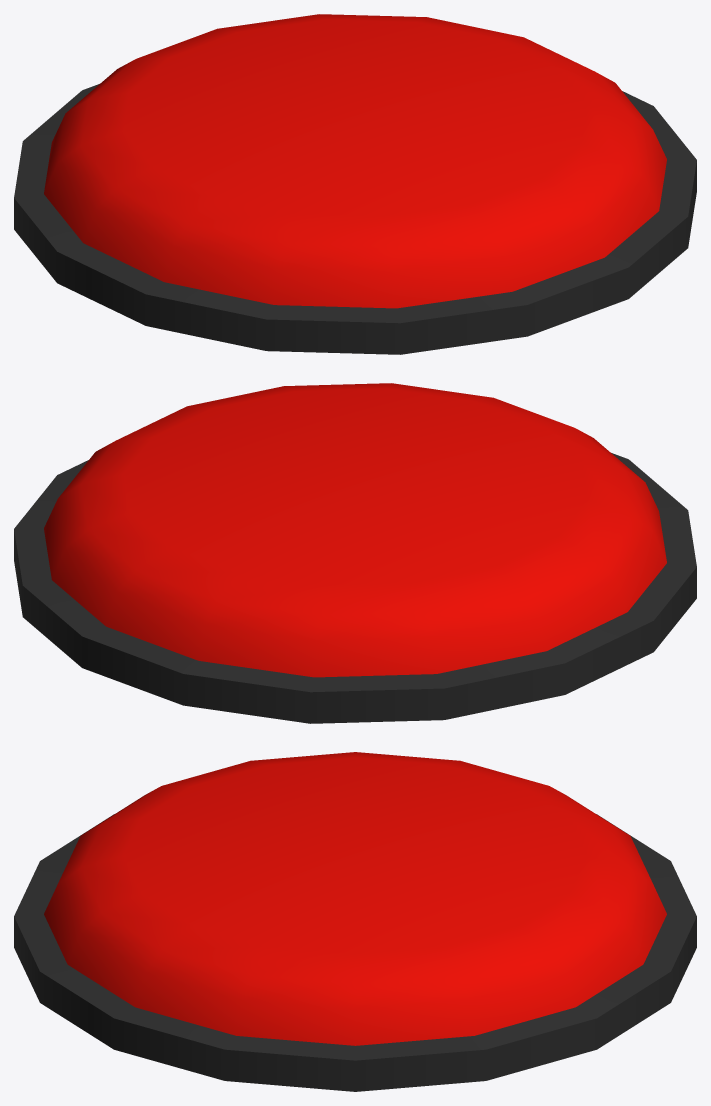
Rendered from button.fbx.
3 views of the same model, one above another, from view 1: azimuth 30°, elevation 25°; view 2: azimuth 150°, elevation 25°; view 3: azimuth 270°, elevation 25° (orthographic).
Visible parts, largest first — view 1: BUTTON; view 2: BUTTON; view 3: BUTTON.
Boxes of the visible parts, x1,y1,x2,y2 form: BUTTON: [14, 14, 696, 354]; BUTTON: [14, 383, 696, 723]; BUTTON: [14, 752, 696, 1091].
Size of the model in its own units: 189 by 27.98 by 189.
